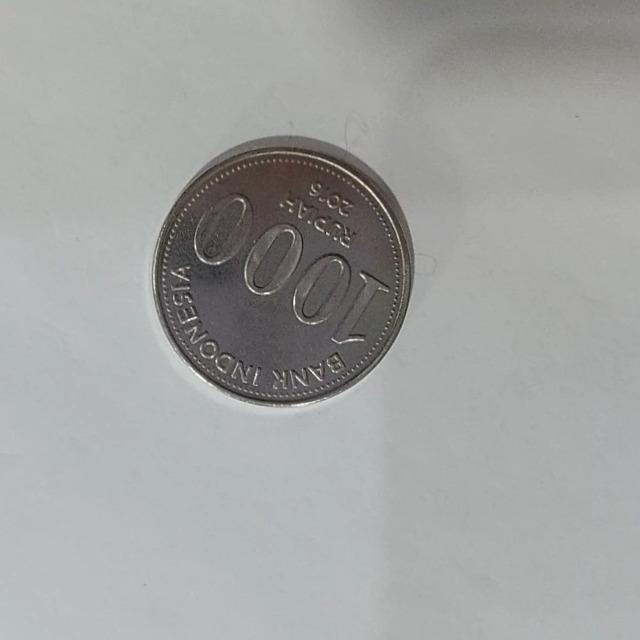Rp100: (149, 134, 415, 408)
